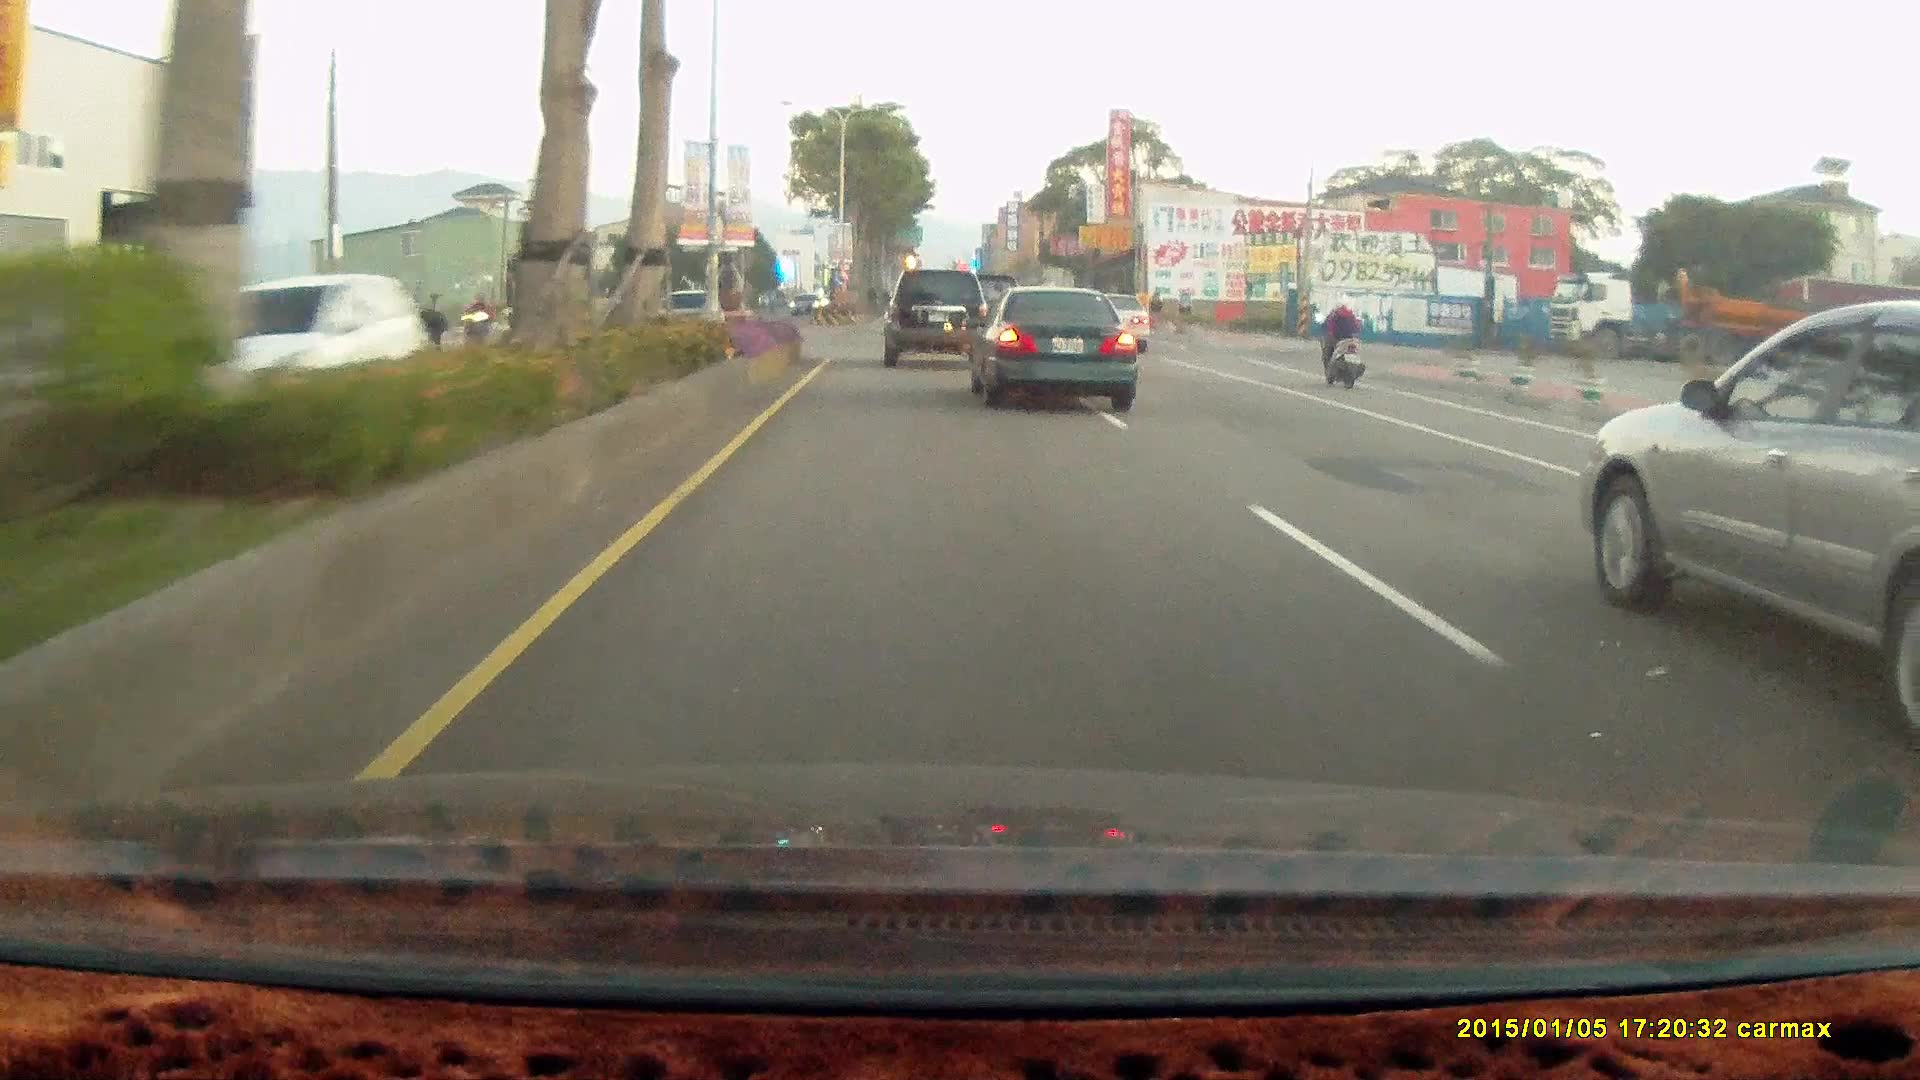pedestrian: (413, 305, 445, 354)
rider: (1309, 289, 1375, 394), (1311, 292, 1367, 388), (458, 294, 500, 361)
vehicle: (1584, 297, 1920, 736), (178, 272, 430, 433), (1544, 268, 1920, 369), (209, 272, 417, 432), (961, 287, 1133, 412), (972, 291, 1140, 413), (882, 266, 993, 369), (881, 269, 987, 370), (1077, 293, 1154, 358), (1076, 290, 1152, 354)
